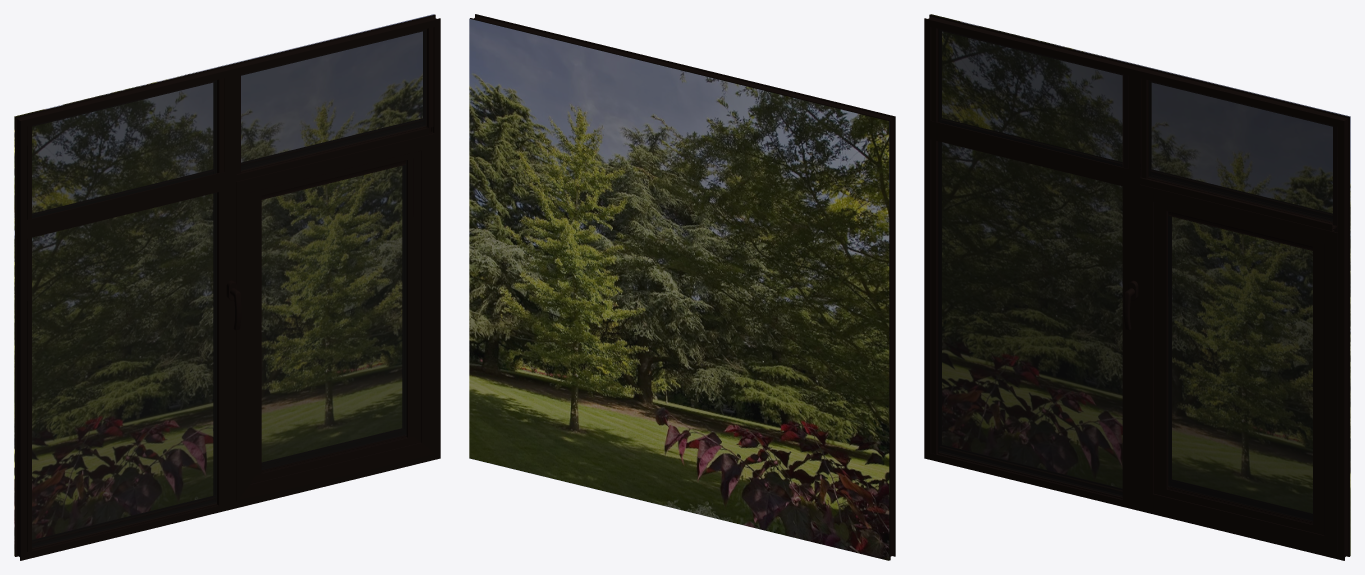
The model's file is Window_Living.FBX.
The picture shows the model from 3 angles, left to right: view 1: azimuth 30°, elevation 25°; view 2: azimuth 150°, elevation 25°; view 3: azimuth 330°, elevation 25°; orthographic projection.
Visible parts, largest first — view 1: outer, glass_1, frame, glass, window_frame; view 2: outer, frame; view 3: outer, glass_1, frame, glass, window_frame.
Boxes of the visible parts, left/top/right/bottom form: outer: left=14, top=14, right=434, bottom=556; glass_1: left=32, top=29, right=426, bottom=548; frame: left=15, top=14, right=440, bottom=560; glass: left=261, top=161, right=406, bottom=469; window_frame: left=236, top=133, right=434, bottom=501; outer: left=469, top=18, right=889, bottom=560; frame: left=470, top=14, right=895, bottom=560; outer: left=930, top=14, right=1350, bottom=556; glass_1: left=938, top=29, right=1332, bottom=496; frame: left=924, top=14, right=1349, bottom=560; glass: left=1168, top=212, right=1312, bottom=521; window_frame: left=1140, top=184, right=1337, bottom=552.
Bounding box in the file's own units: 2.04 × 2.04 × 0.1256.
3 materials, 1 textured.
